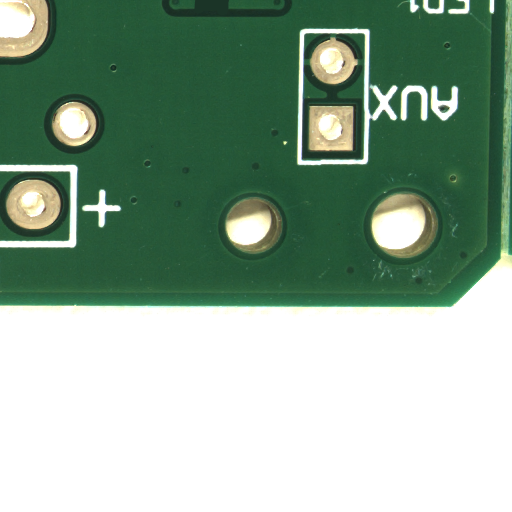Open_circuit: (211, 5, 247, 15)
